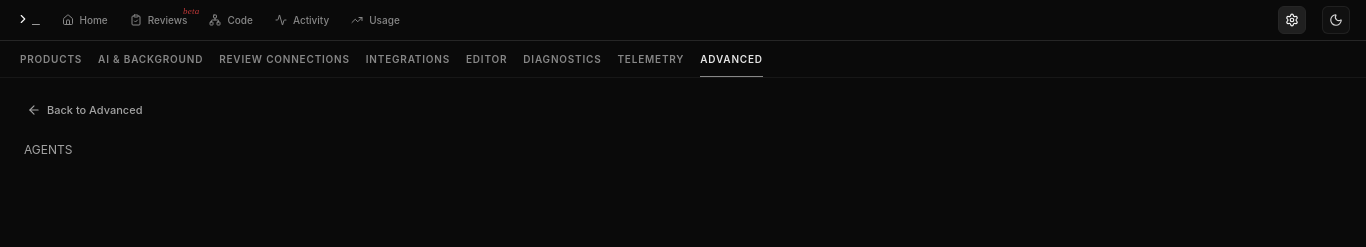
Test case: App router smoke test › keeps Advanced selected and links back from its detail pages
Click the link "Back to Advanced". click: [85, 110]
box: [27,103,142,117]
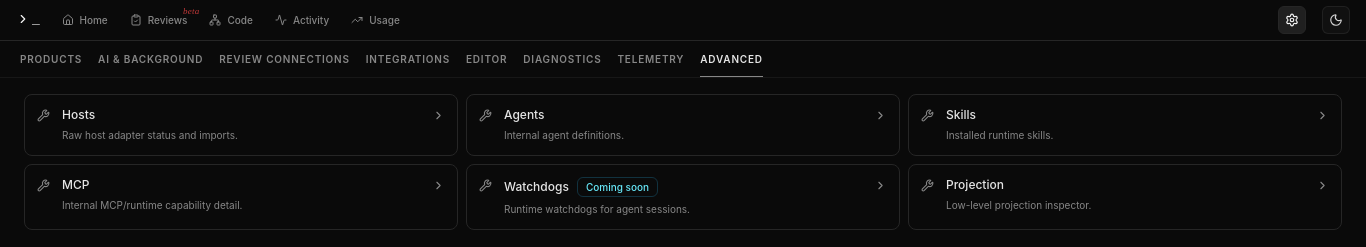
Check: the link "Agents Internal agent definitions." is shown, box [466,94,900,156]
